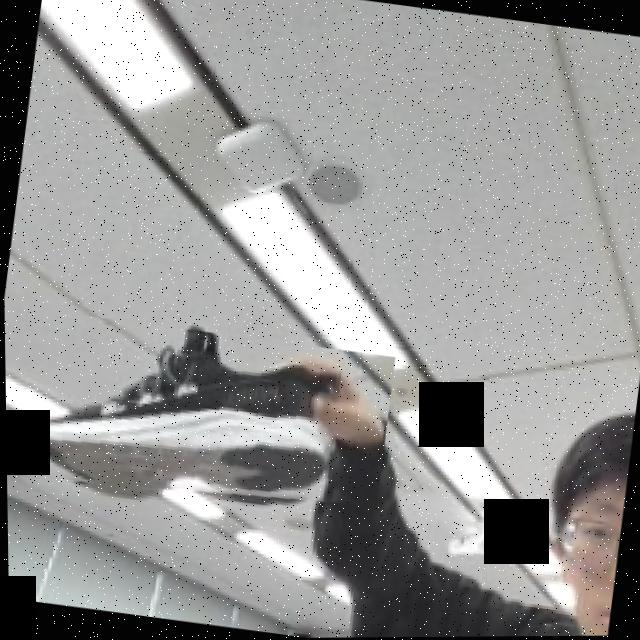shoe: (4, 304, 396, 529)
